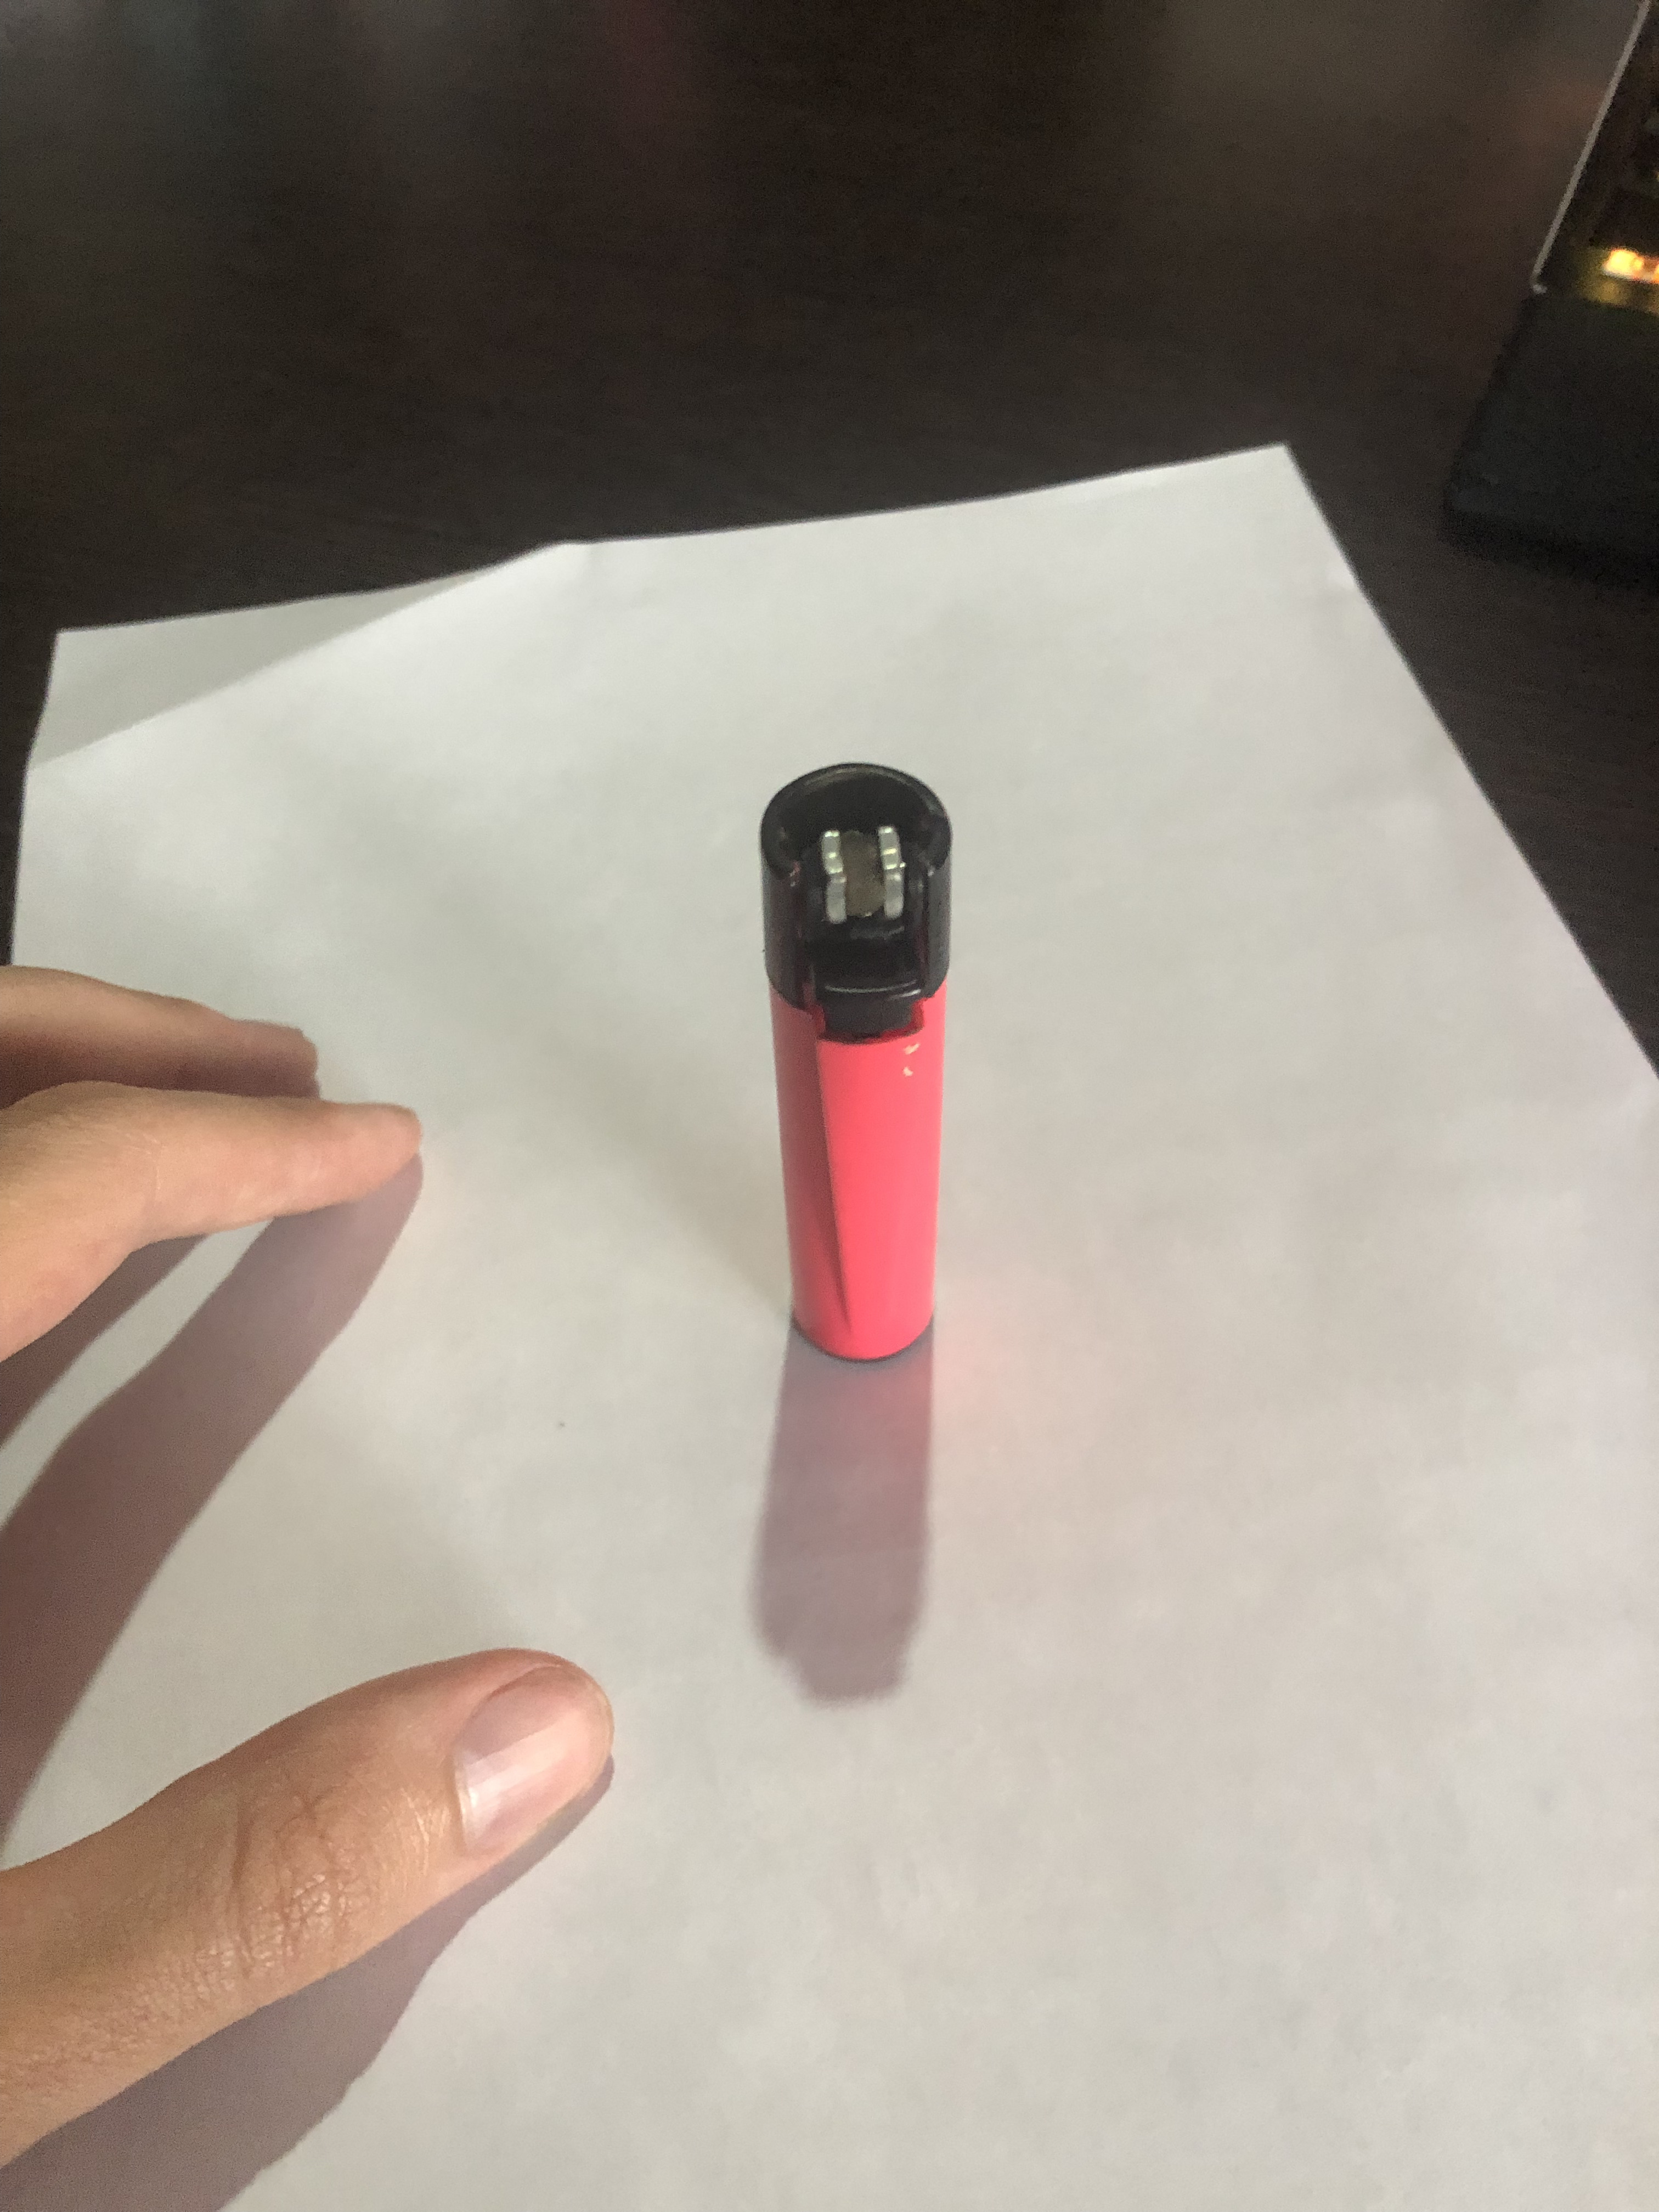Mechero: (662, 711, 1019, 1392)
